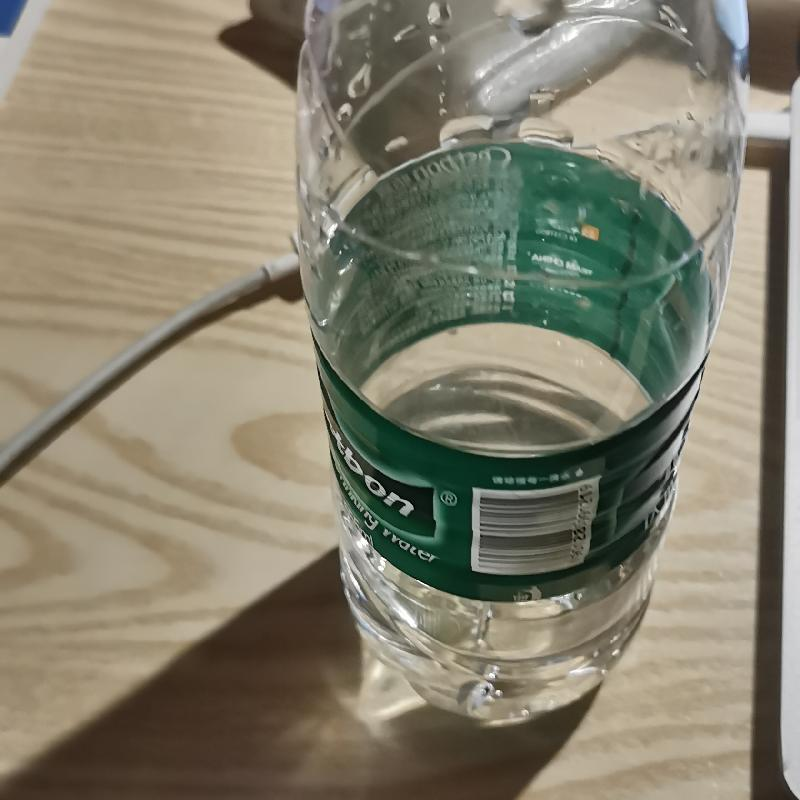bottles: (289, 0, 740, 722)
